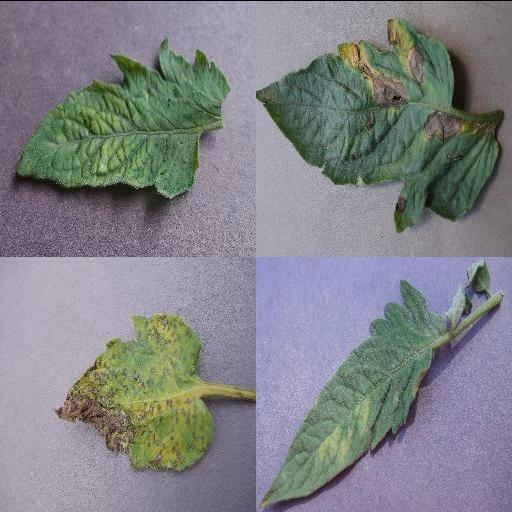Early Blight: (256, 18, 505, 233)
Leaf Mold: (258, 277, 444, 508)
Mosaic Virus: (15, 34, 233, 198)
Septoria: (54, 311, 212, 471)
